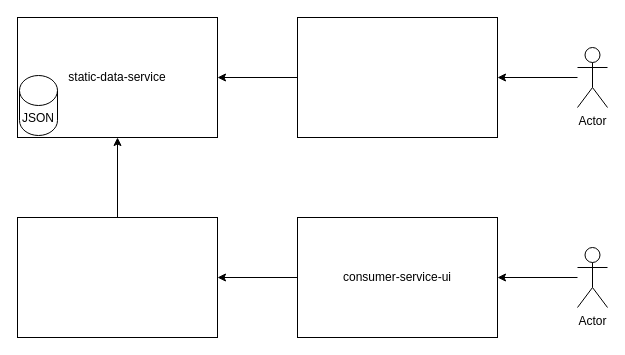
Some shapes in this 625 by 355 pixel diagram are drawn without their labels. Here are the shapes that lost their labels. From the top down, the centre of each, then its label:
the point at 397,77: static-data-service-ui
the point at 117,277: consumer-service
